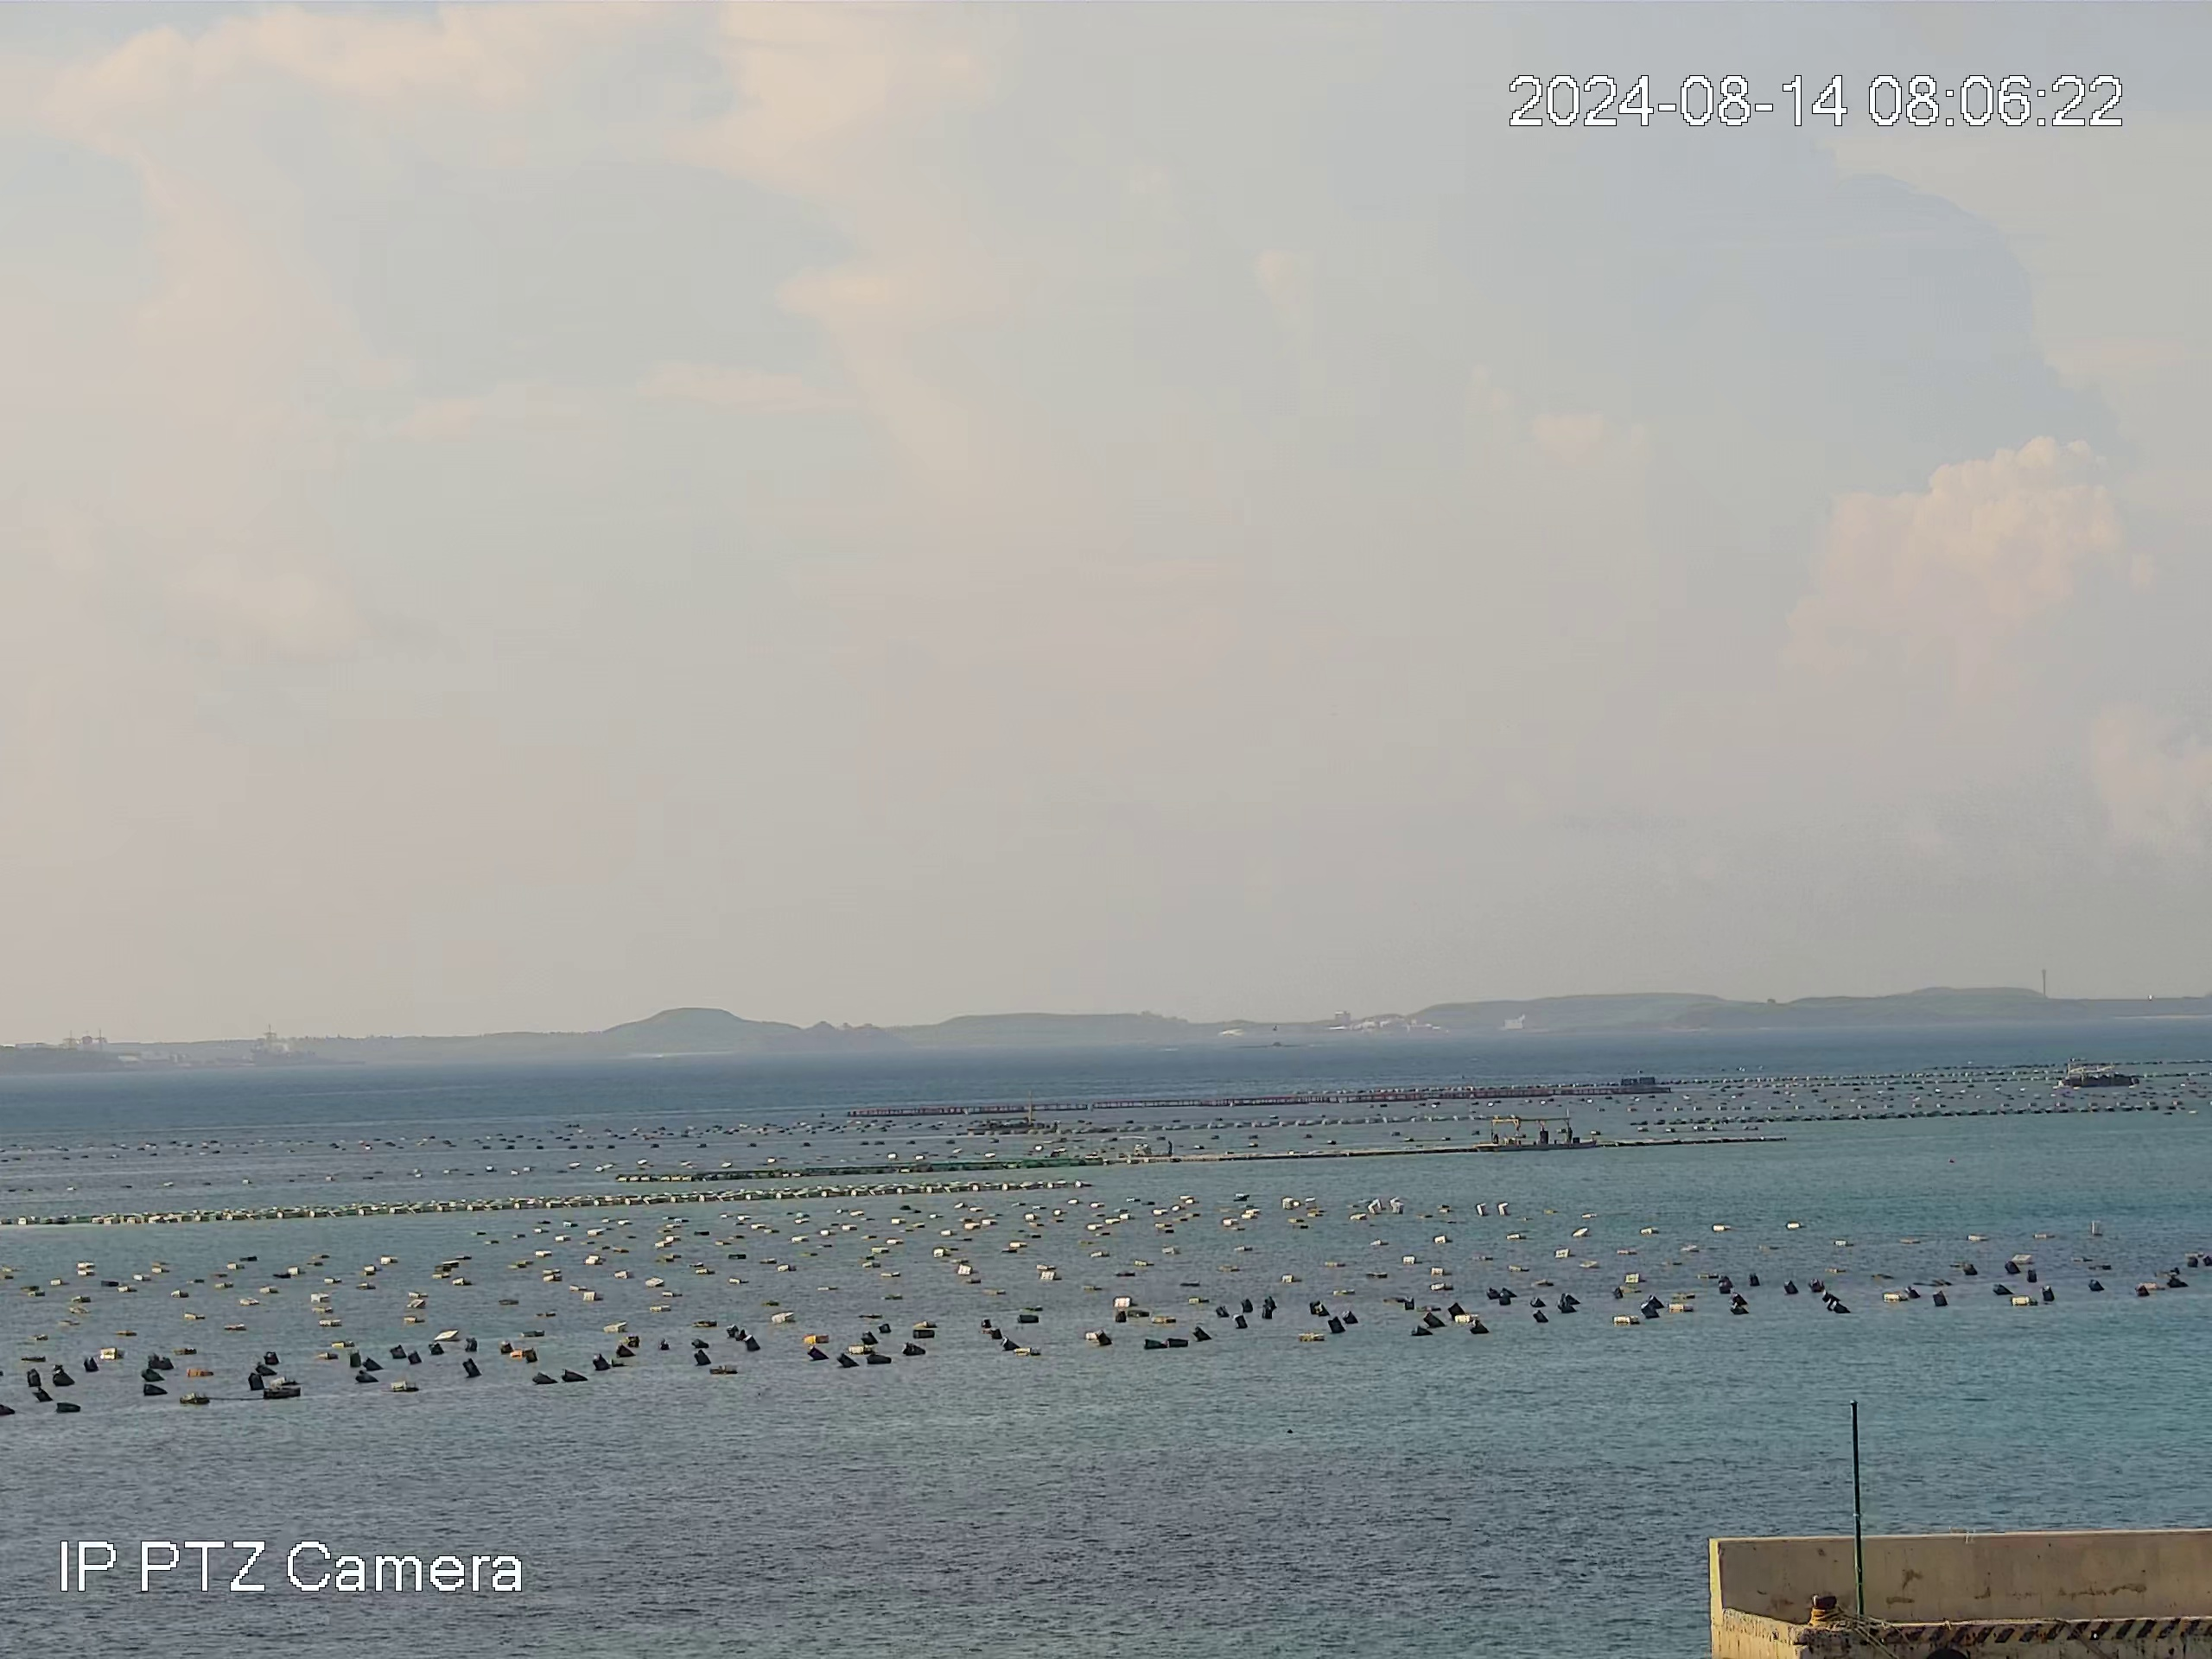boat: (1477, 1115, 1597, 1154), (2059, 1056, 2148, 1091)
